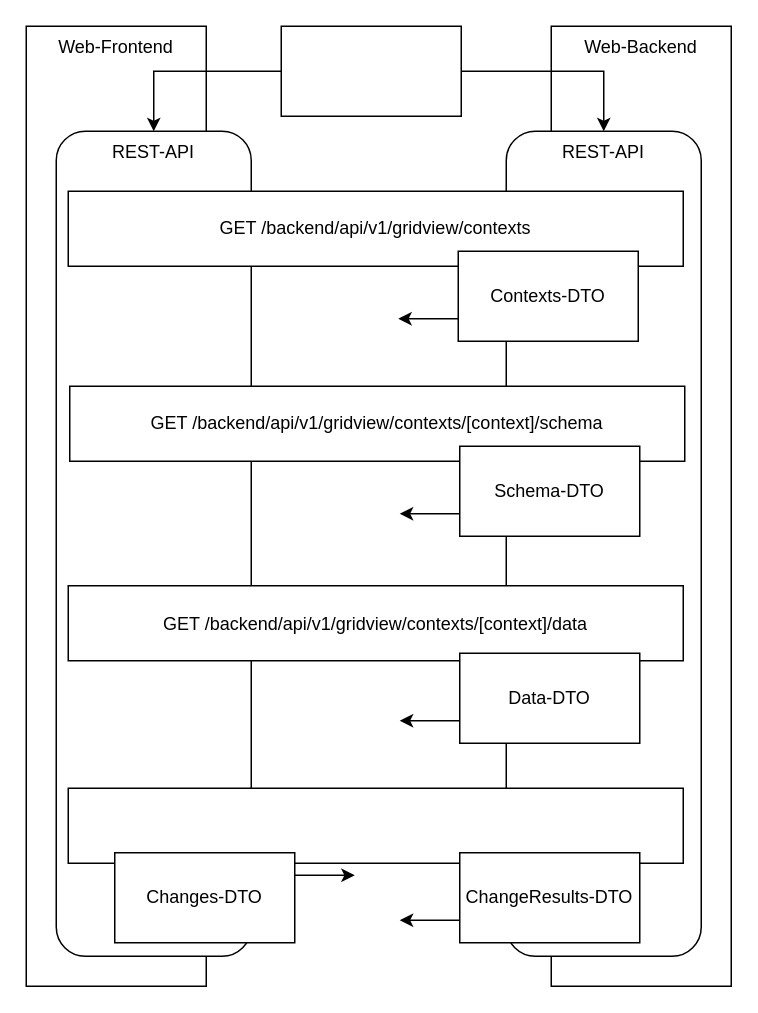
Image size: 758x1013. Some labels were removed from this diagram. The centre of each missing label's shape, as x and y in pixels:
"POST /backend/api/v1/gridview/contexts/[context]/change" belongs at point (375, 825).
"Swagger" belongs at point (370, 70).
